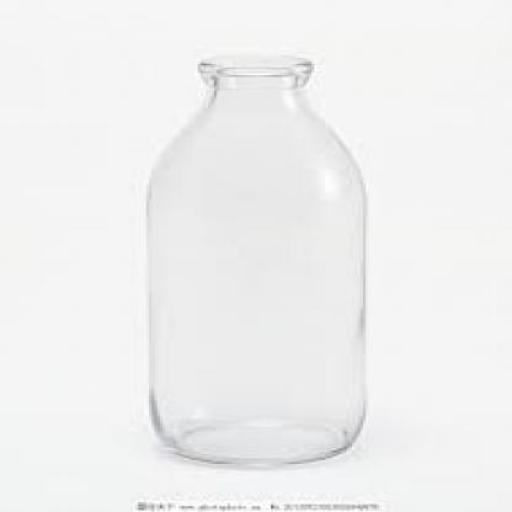glass: (141, 54, 360, 460)
